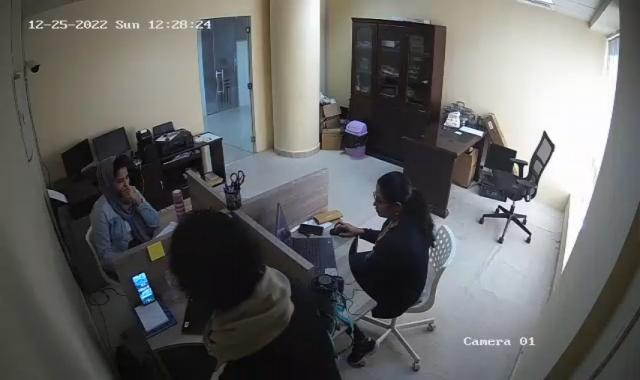no_hairnet: (172, 207, 266, 304), (369, 170, 422, 222), (95, 157, 132, 187)
